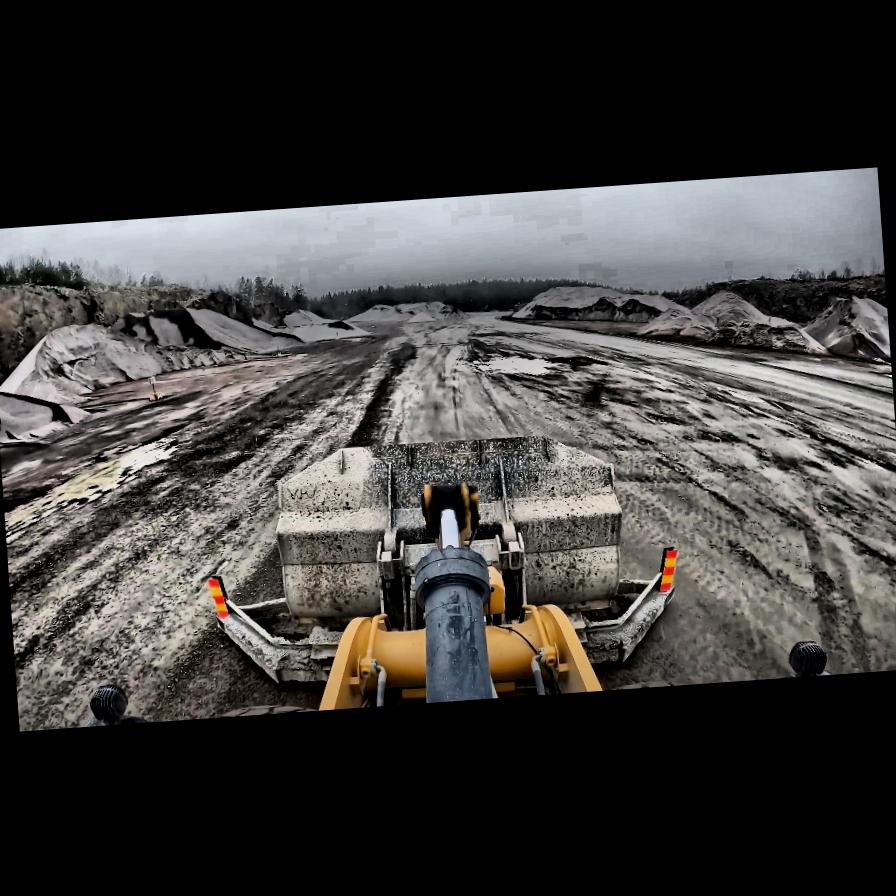anchor: (420, 478, 479, 542)
pile of gravel: (520, 262, 886, 393), (0, 294, 313, 408), (0, 382, 92, 448), (256, 303, 368, 345), (640, 306, 716, 342), (616, 290, 680, 318), (342, 300, 413, 323), (282, 306, 330, 325), (510, 300, 540, 318), (420, 298, 448, 312), (440, 304, 469, 316)
